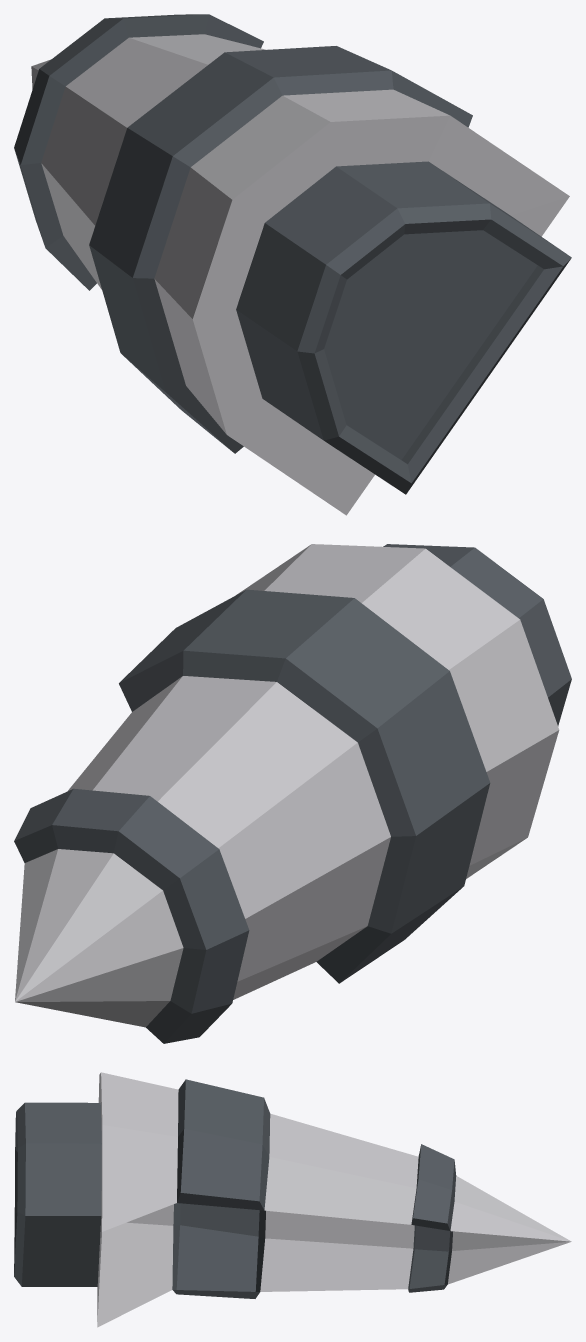
Rendered from Dropship_03_Booster.fbx.
3 renders of one model, top to bottom at view 1: azimuth 30°, elevation 25°; view 2: azimuth 150°, elevation 25°; view 3: azimuth 270°, elevation 25°, orthographic. The views are drawn at different scales.
Visible parts, largest first — view 1: Dropship_03_Booster; view 2: Dropship_03_Booster; view 3: Dropship_03_Booster.
Part boxes in pixels (box(x1,y1,x2,y2)): Dropship_03_Booster: box(14, 14, 571, 515); Dropship_03_Booster: box(14, 544, 571, 1043); Dropship_03_Booster: box(14, 1072, 571, 1327).
Size of the model in its own units: 64.13 by 63.53 by 128.
Materials: 1 (1 with a texture image).
